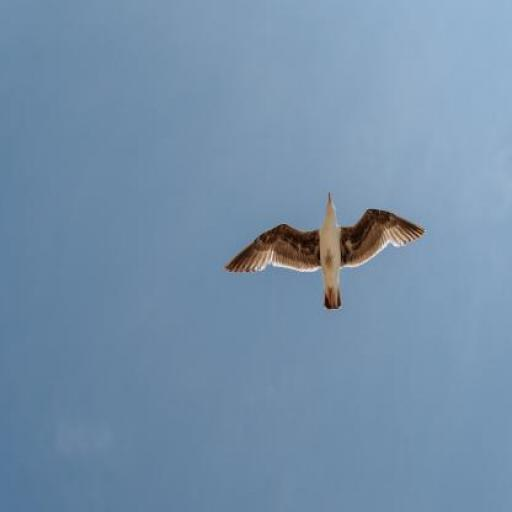bird: (224, 191, 426, 309)
